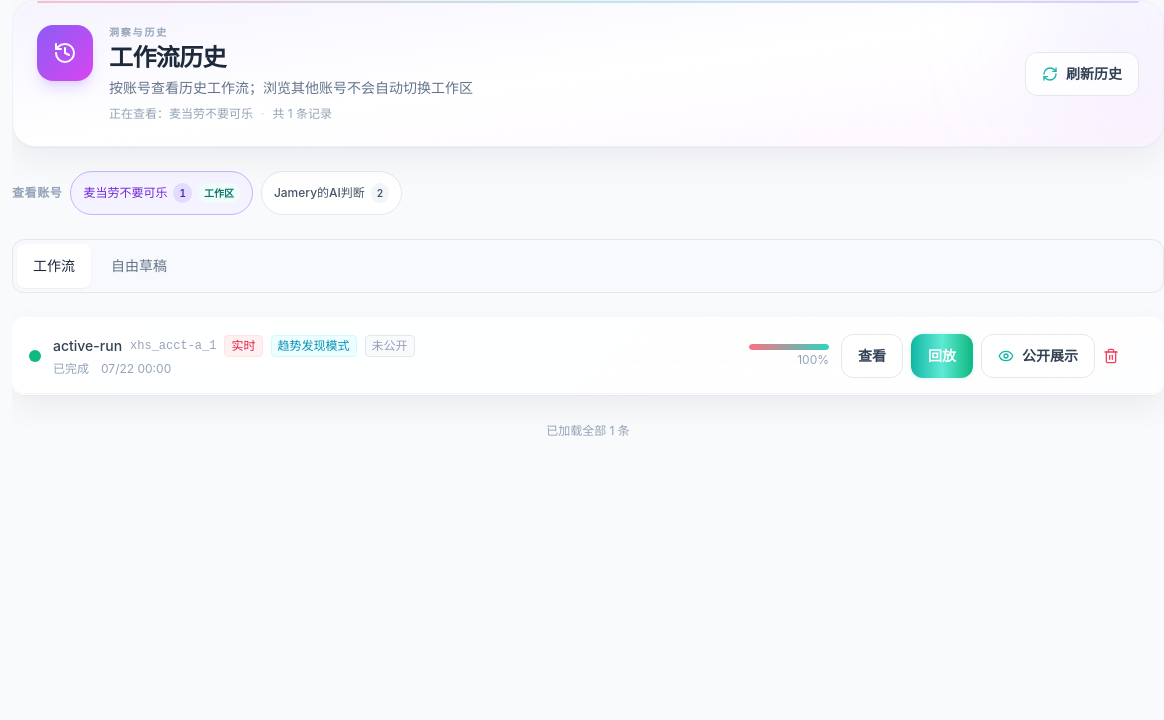
Test: History view › skips revalidate when switching back to a still-fresh cached account
The width and height of the screenshot is (1164, 720).
Click the button "Jamery的AI判断 2".
click(332, 193)  # box [261, 171, 402, 215]
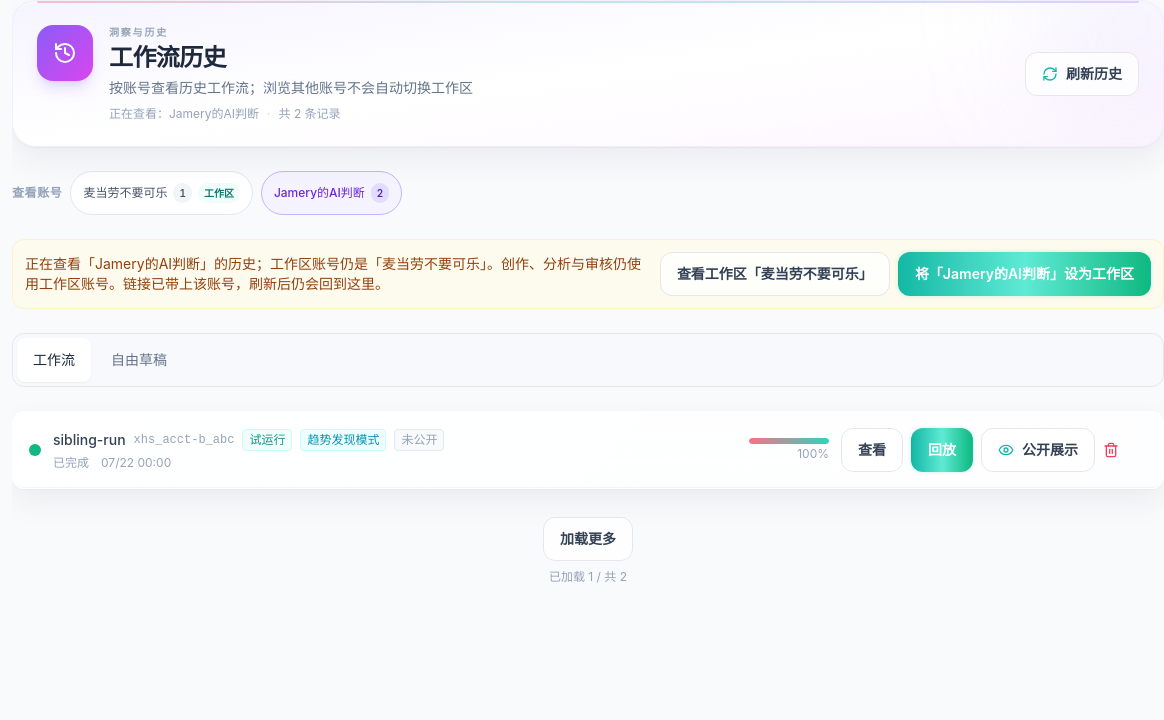
Click the button "麦当劳不要可乐 1 工作区".
click(162, 193)  # box [70, 171, 253, 215]
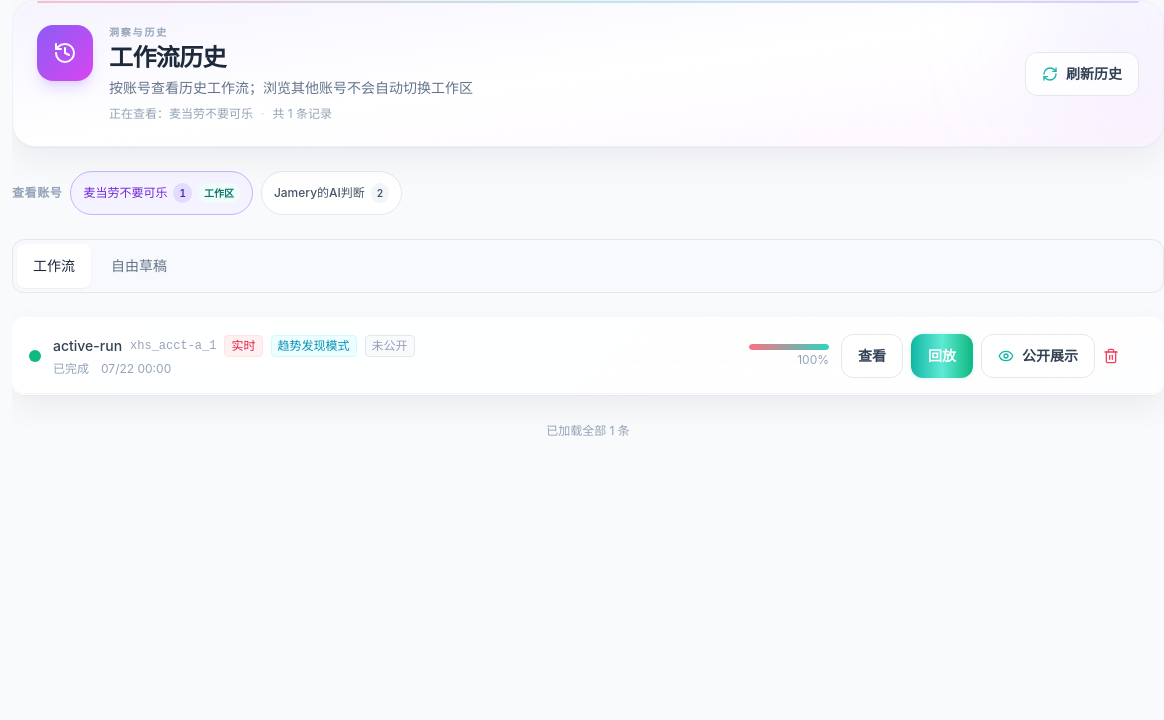
Result: the text "active-run" is shown at [53, 336, 122, 356]
